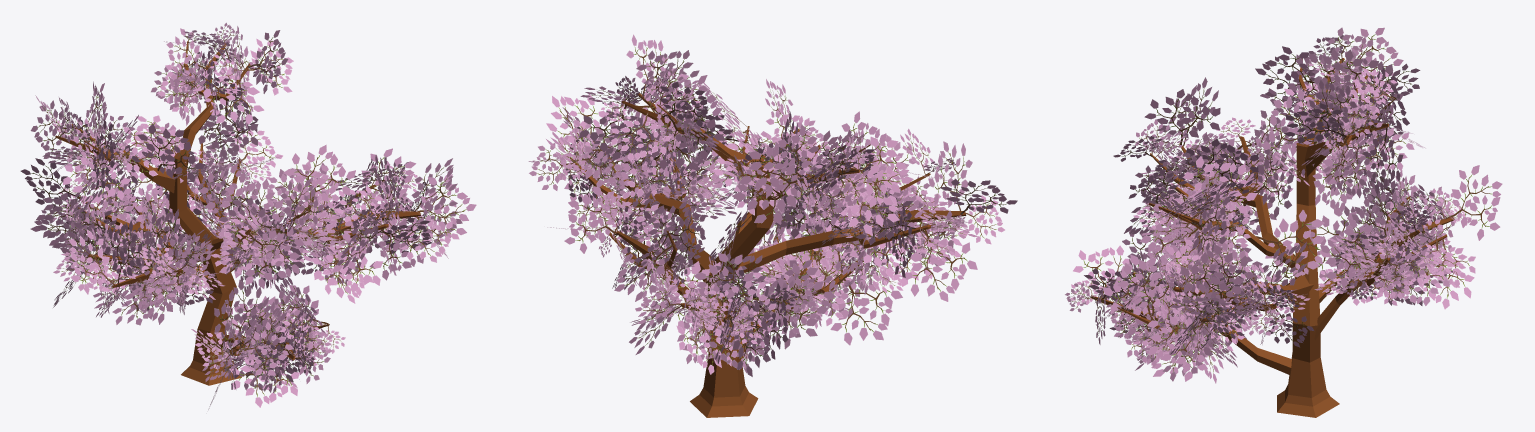
The model's file is WizardTree.fbx.
The picture shows the model from 3 angles, left to right: view 1: azimuth 30°, elevation 25°; view 2: azimuth 150°, elevation 25°; view 3: azimuth 270°, elevation 25°; orthographic projection. The views are drawn at different scales.
Parts seen in each view (by area): view 1: Wizard_tree; view 2: Wizard_tree; view 3: Wizard_tree.
Part boxes in pixels (left/top/right/bottom): Wizard_tree: left=20, top=22, right=476, bottom=409; Wizard_tree: left=528, top=34, right=1017, bottom=417; Wizard_tree: left=1065, top=27, right=1502, bottom=417.
Size of the model in its own units: 2405 by 1810 by 2109.
